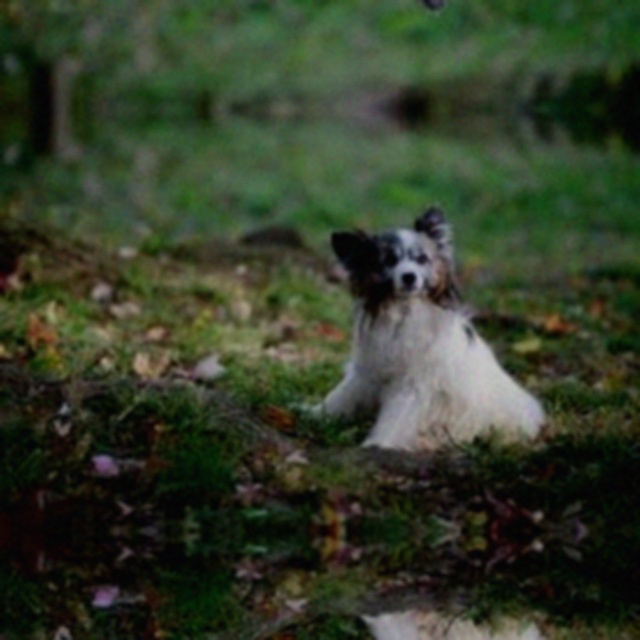dog: (297, 176, 548, 439), (297, 0, 548, 39), (297, 620, 548, 640)
